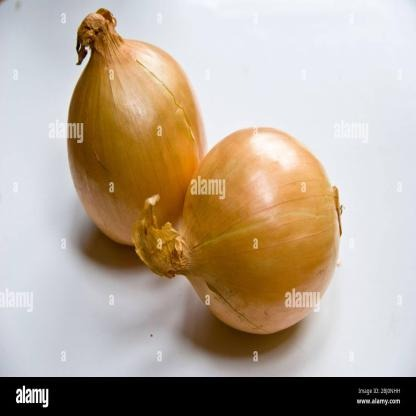onion: (68, 11, 331, 367), (0, 375, 416, 416)
